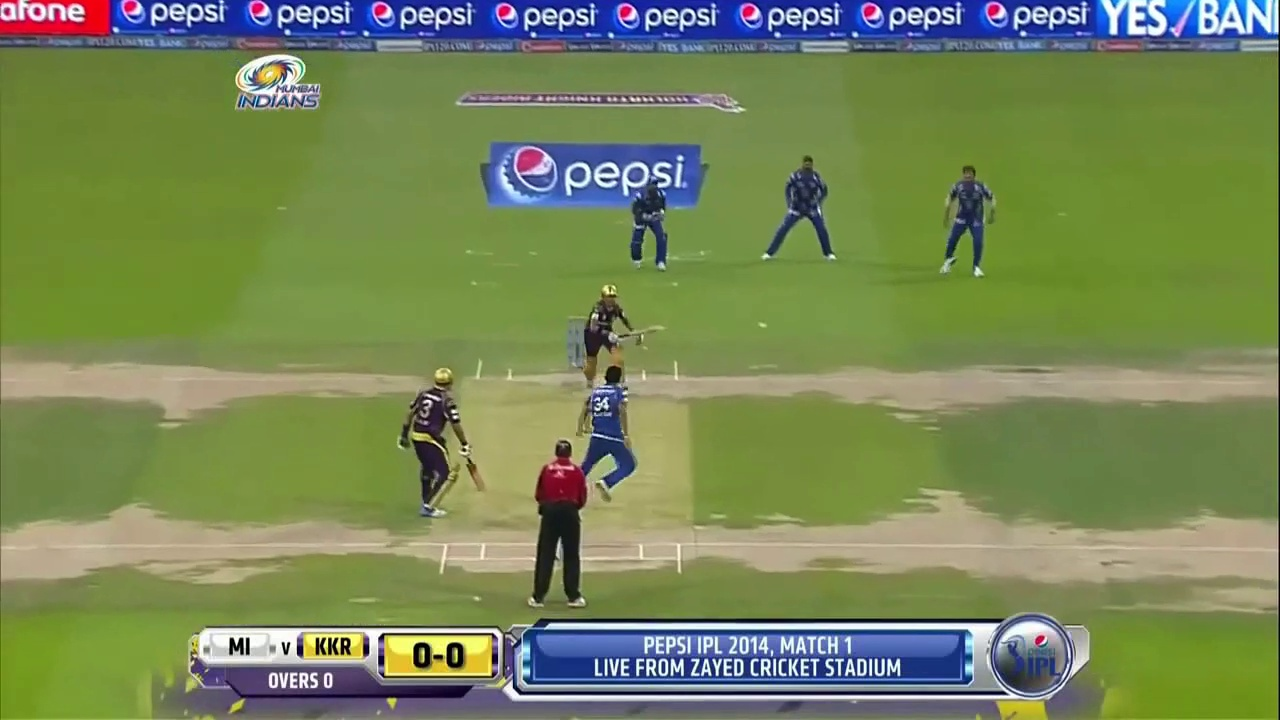bat: (465, 456, 485, 492)
